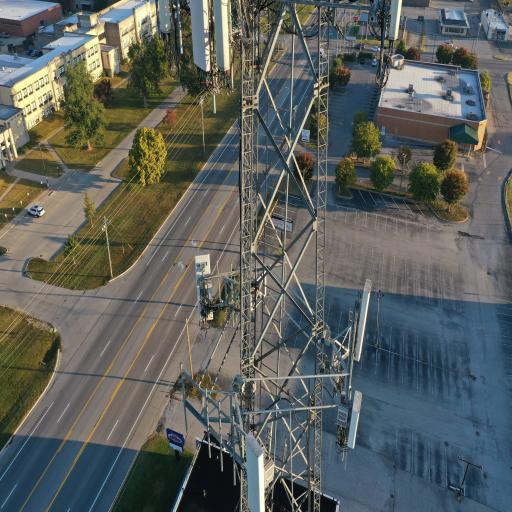supporting_tower: (166, 0, 375, 512)
